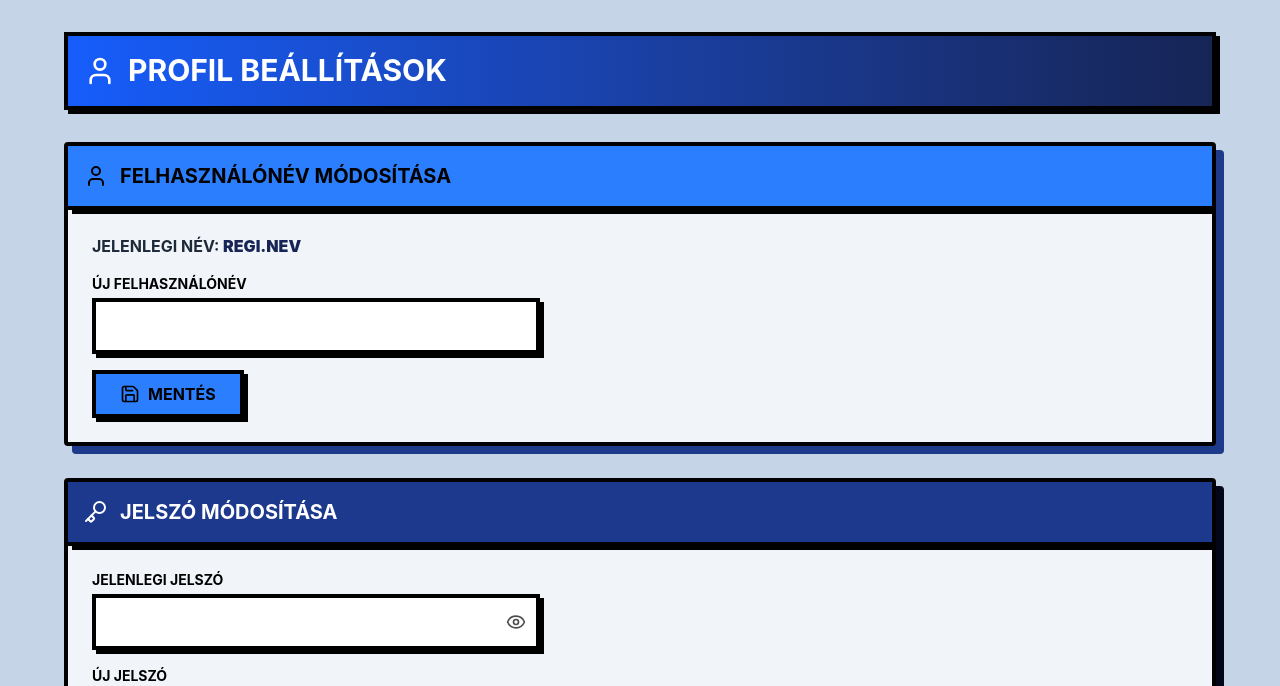
Test: ProfilePage Komponens › sikeresen frissíti a felhasználónevet cookie-s munkamenettel
expect the text "regi.nev" is shown: met, box [223, 236, 301, 256]
Type "uj.nev" into the field. click: (316, 326)
box: [92, 298, 540, 354]
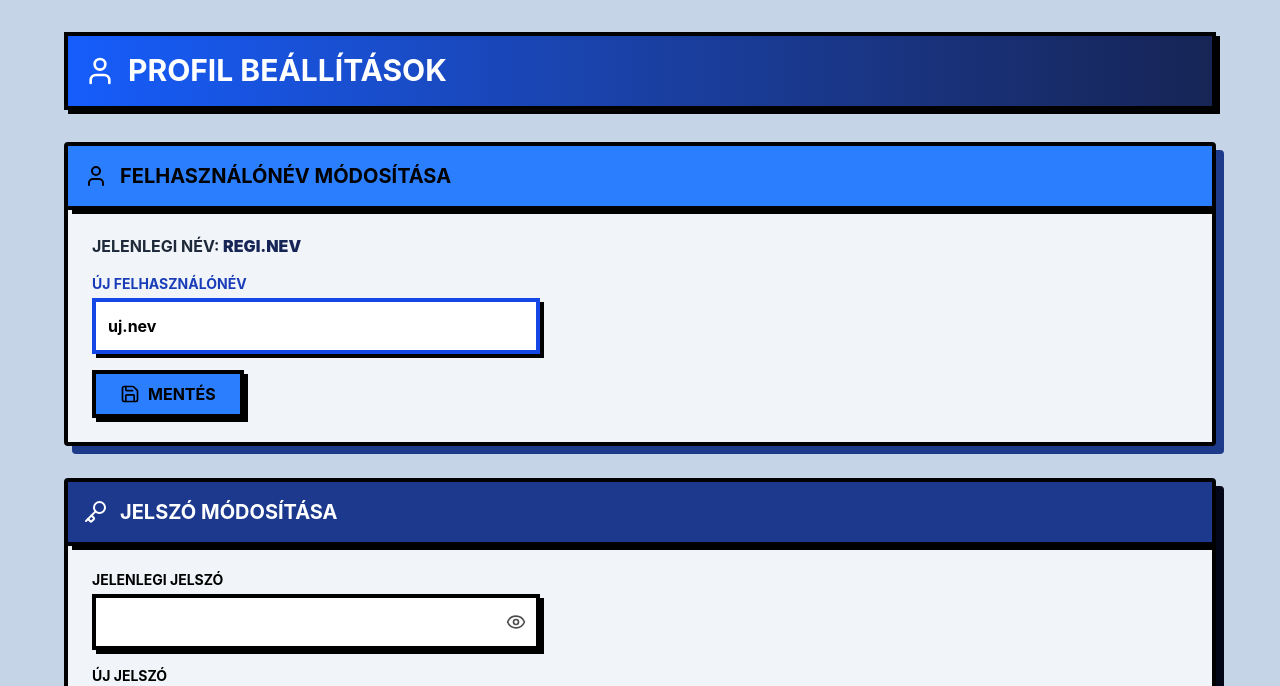
Click the button "Mentés". click: (168, 394)
box: [92, 370, 244, 418]
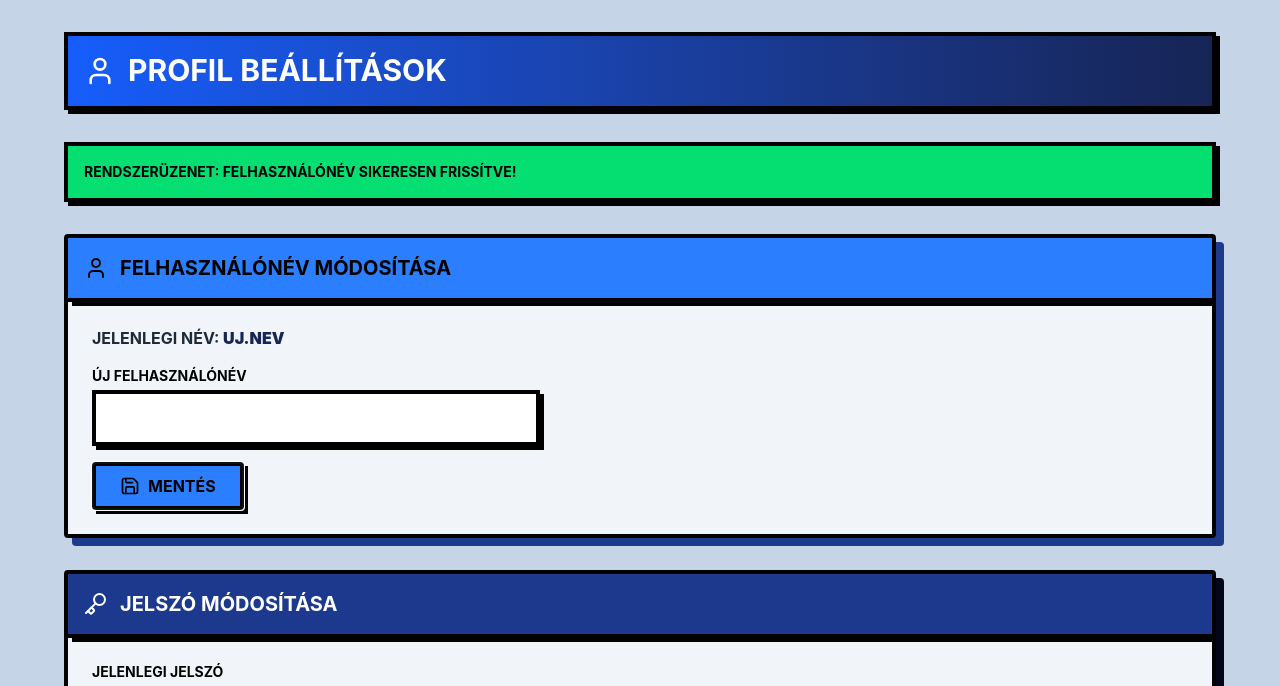
expect the text "Rendszerüzenet: Felhasználónév sikeresen frissítve!" is shown: met, box [223, 162, 516, 180]
expect the text "uj.nev" is shown: met, box [223, 328, 284, 348]
expect the field is empty: met, box [92, 390, 540, 446]
